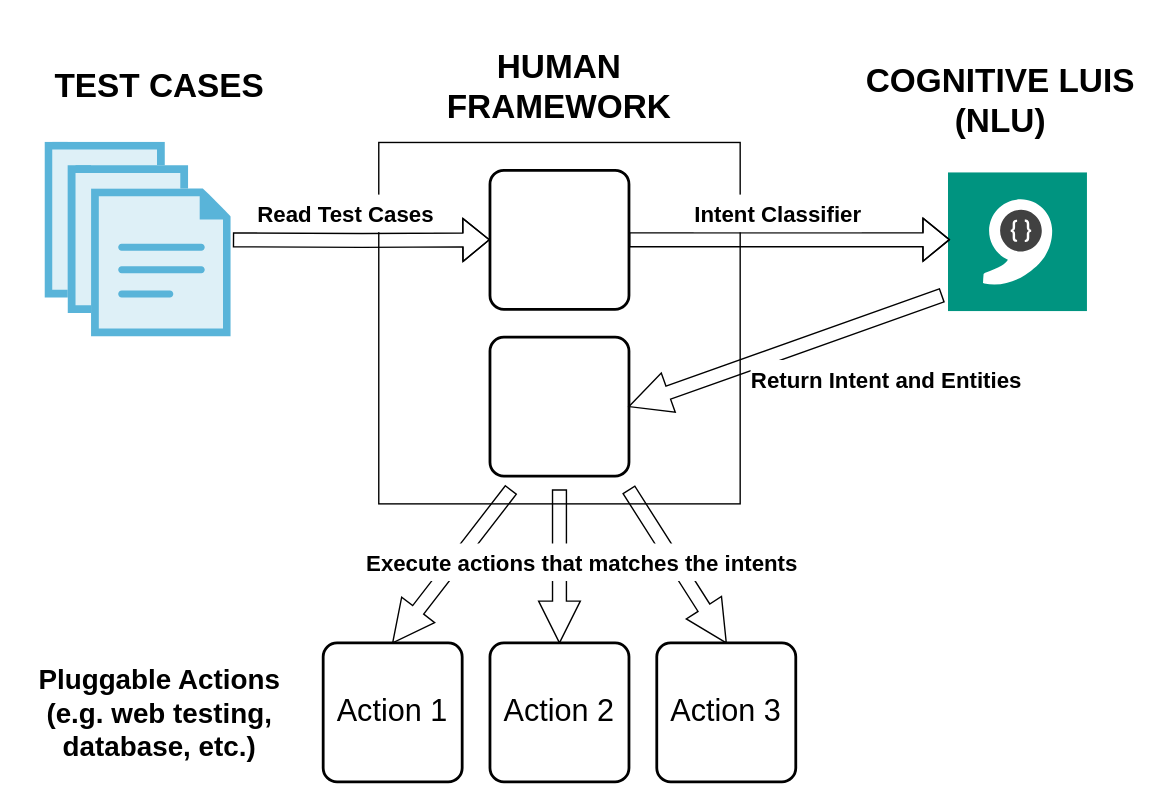
The diagram is 1166 pixels wide and 806 high, and some of its shapes have lost their labels. Here are the shapes that lost their labels. From the top down, the centre of each, then its label:
point (559, 239): Reader
point (559, 406): Action Loader
